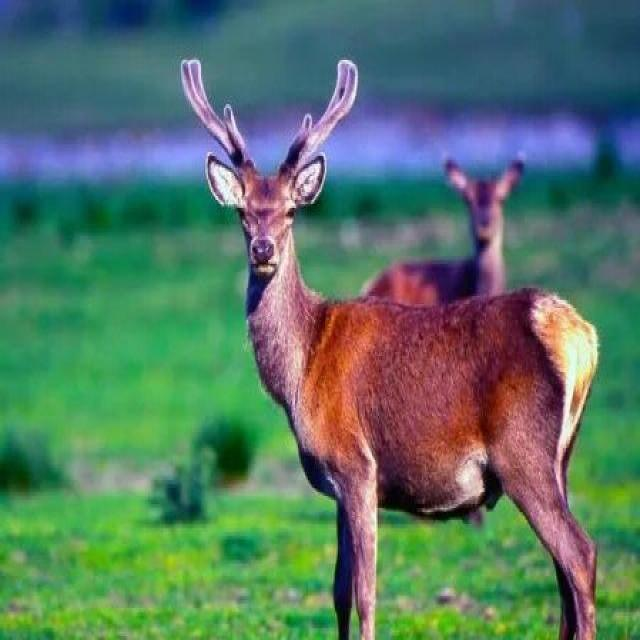deer: (178, 73, 582, 498)
